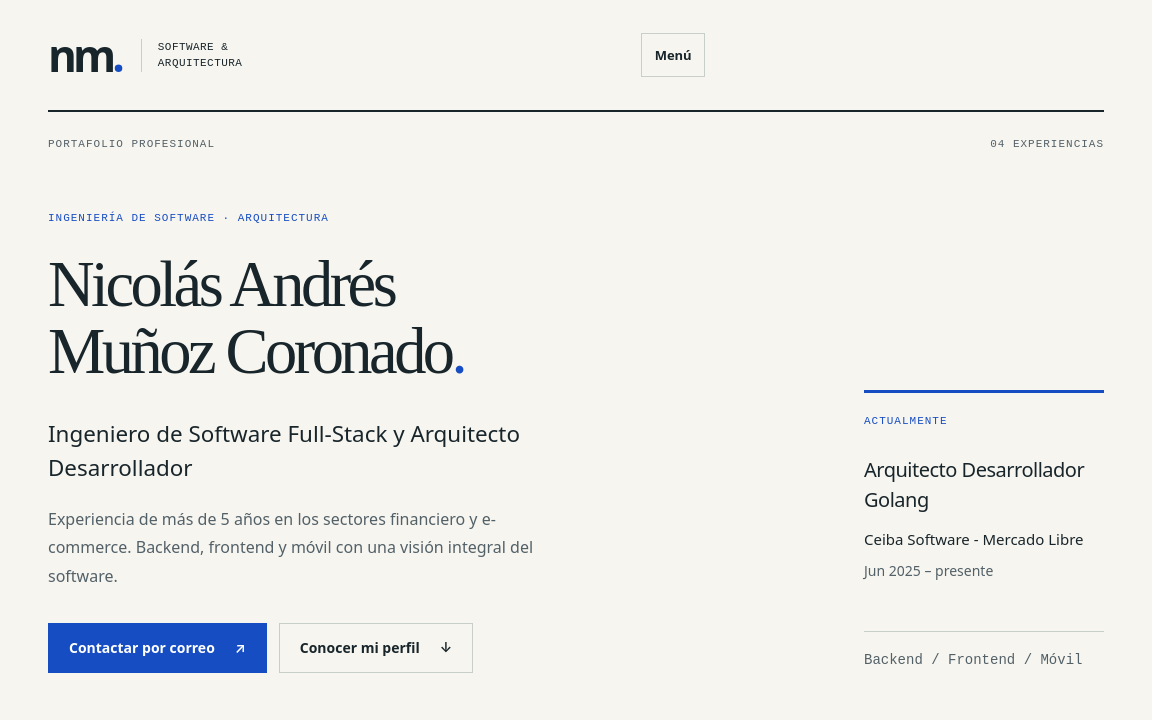
Scenario: Mobile navigation disclosure › closes on link selection without cancelling native hash navigation
Click the button "Menú": (673, 55) [641,33,705,77]
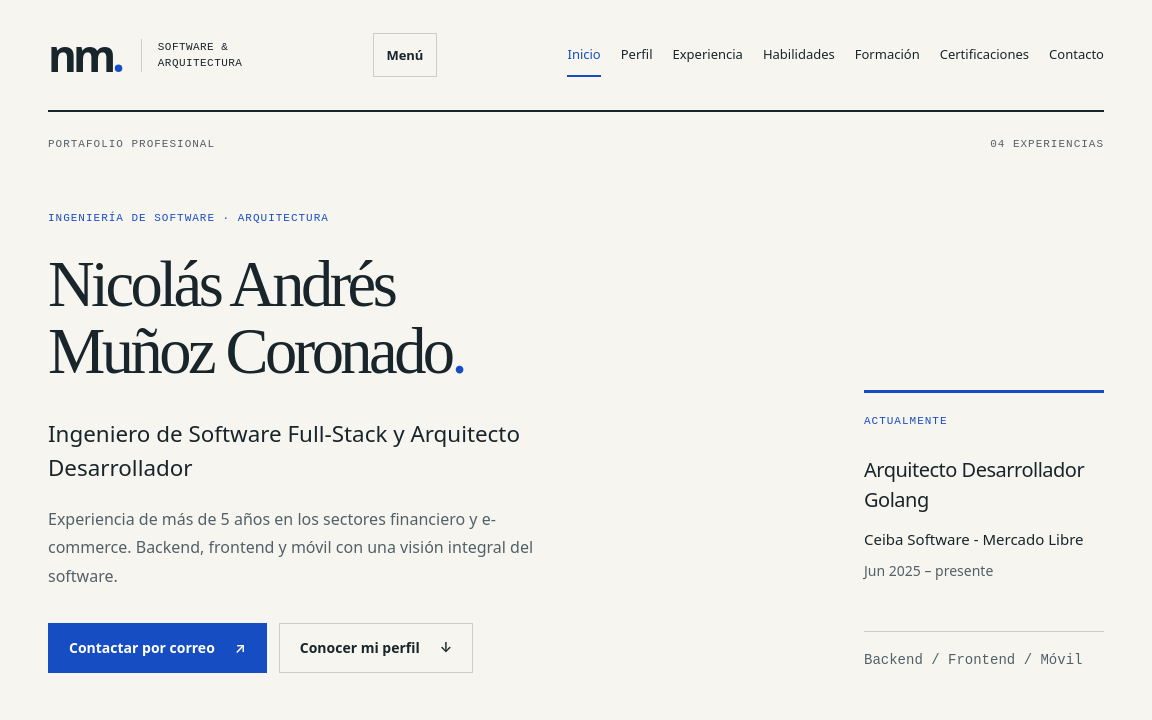
Click the link with id "contacto": (1077, 54) [1049,45,1104,63]
(page scrolled)
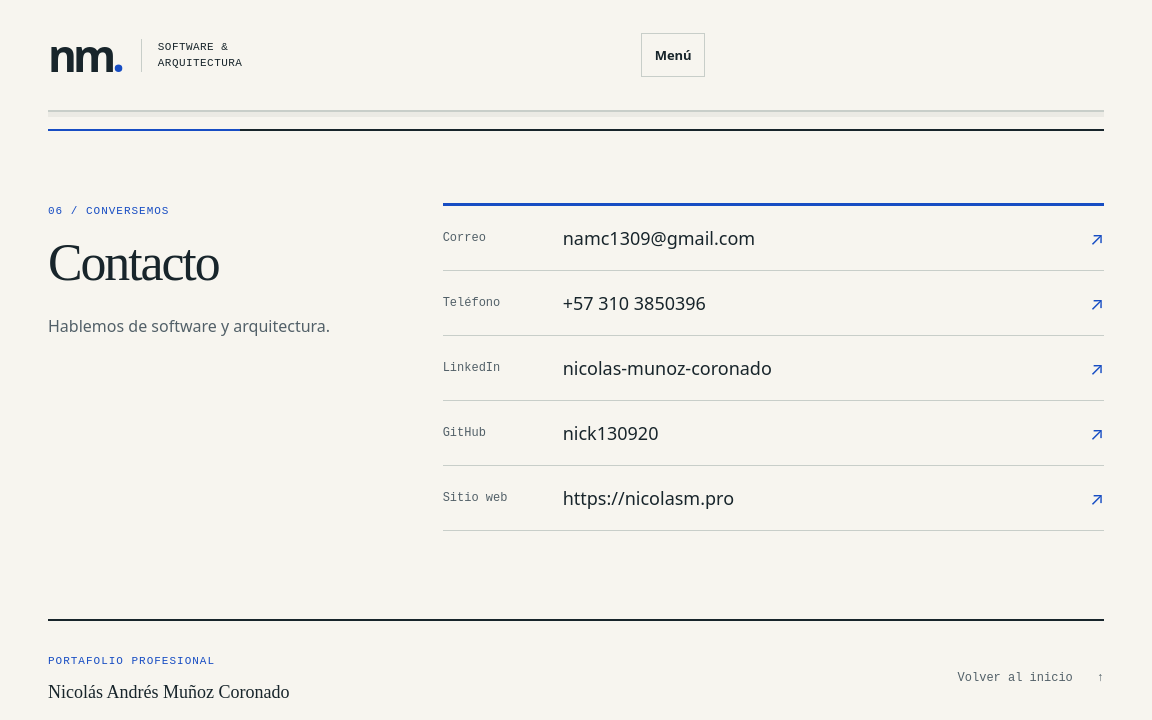
Now the button "Menú" is collapsed, box [641,33,705,77]
